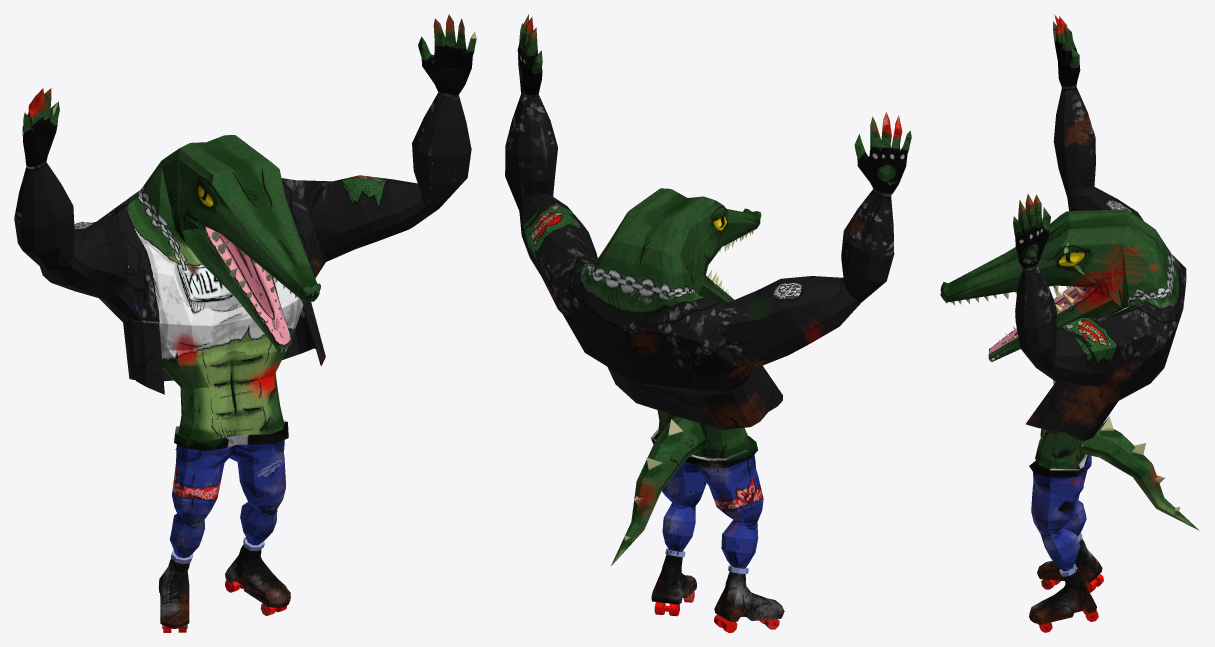
File: cocodrilaBonesSelect_000011.obj
3 views of the same model, side by side, from view 1: azimuth 30°, elevation 25°; view 2: azimuth 150°, elevation 25°; view 3: azimuth 270°, elevation 25° (orthographic). The views are drawn at different scales.
Visible parts, largest first — view 1: Crocodile.002_Cylinder.002; view 2: Crocodile.002_Cylinder.002; view 3: Crocodile.002_Cylinder.002.
Part boxes in pixels (x1,y1,x2,y2): Crocodile.002_Cylinder.002: (14, 14, 476, 632); Crocodile.002_Cylinder.002: (505, 14, 911, 632); Crocodile.002_Cylinder.002: (940, 14, 1199, 632).
Bounding box in the file's own units: 6.6 × 8.32 × 3.81.
